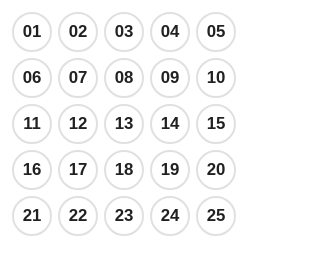
Test case: Volante › mostra as 25 dezenas e muda a marcação a cada clique
The image size is (332, 253).
Step 1. Click the button named "dezena 07" → (78, 78), box [58,58,98,98]
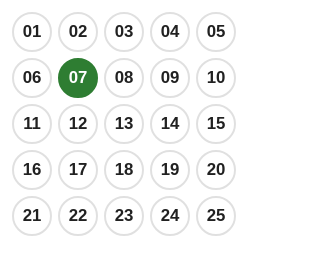
Check: the button named "dezena 07: obrigatória" is shown
Step 2. Click the button named "dezena 07" → (78, 78), box [58,58,98,98]
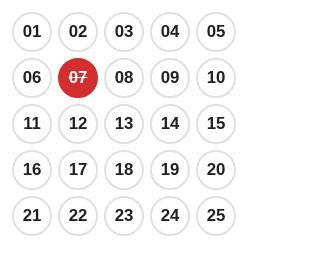
Check: the button named "dezena 07: excluída" is shown
Step 3. Click the button named "dezena 07" → (78, 78), box [58,58,98,98]
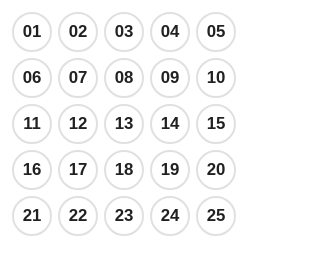
Check: the button named "dezena 07: sem marcação" is shown, box [58,58,98,98]
